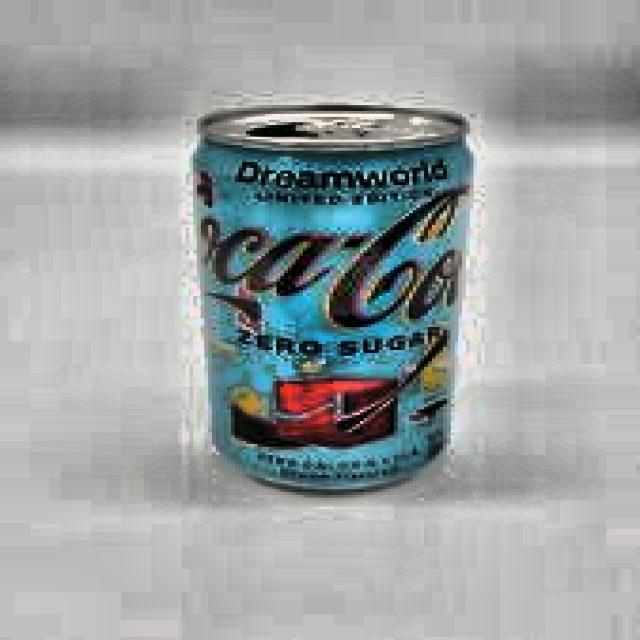Cans: (165, 76, 484, 514)
